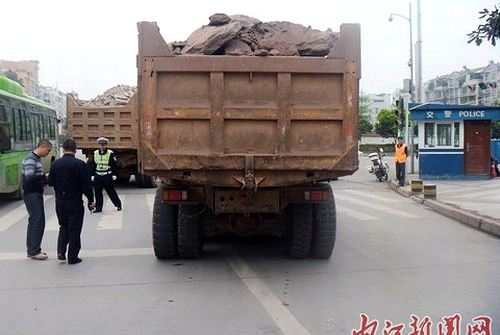chaozhai: (133, 5, 364, 273), (61, 78, 142, 185)
